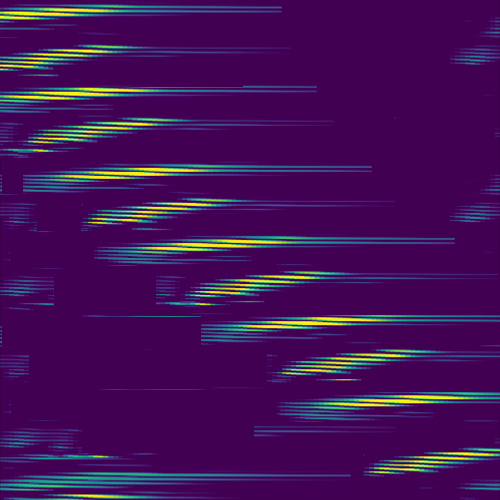semblance: (177, 267, 348, 308), (17, 116, 179, 158), (276, 347, 448, 385), (83, 196, 244, 226), (1, 43, 144, 75), (363, 444, 500, 476), (320, 391, 481, 413), (1, 84, 165, 105), (51, 163, 212, 184), (127, 236, 297, 255), (1, 3, 136, 26), (235, 313, 385, 332)
